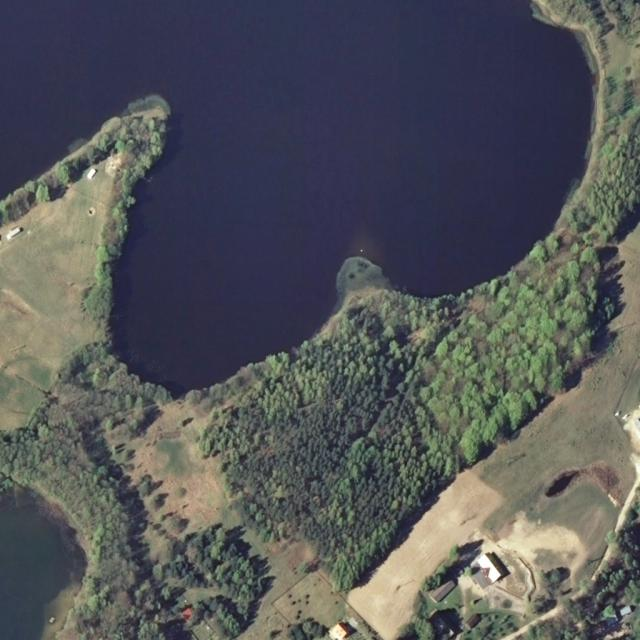agricultural_land: (342, 465, 515, 640), (527, 615, 571, 640)
greenland: (166, 131, 640, 607), (172, 176, 600, 612)
wetland: (0, 485, 86, 639)
